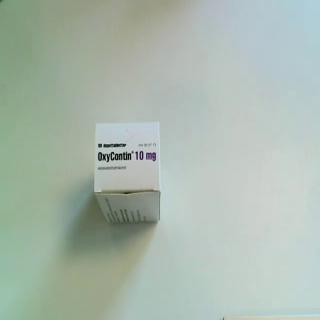oxycontin10mg: (93, 120, 163, 224)
